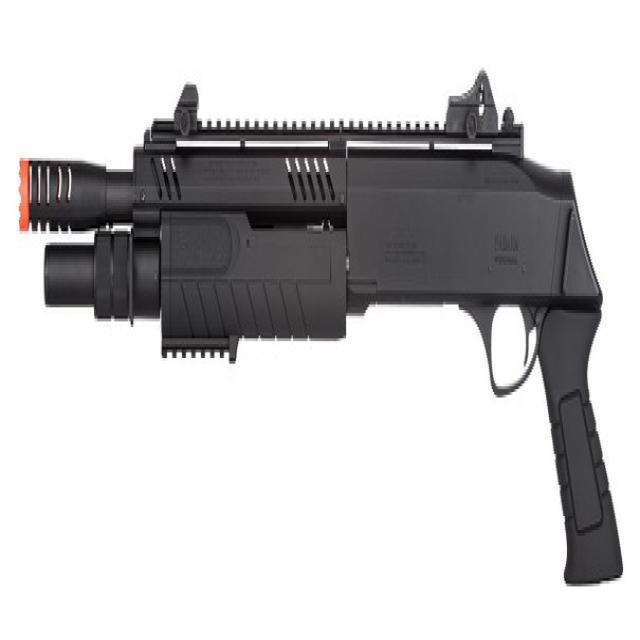ShotGun: (20, 73, 624, 584)
